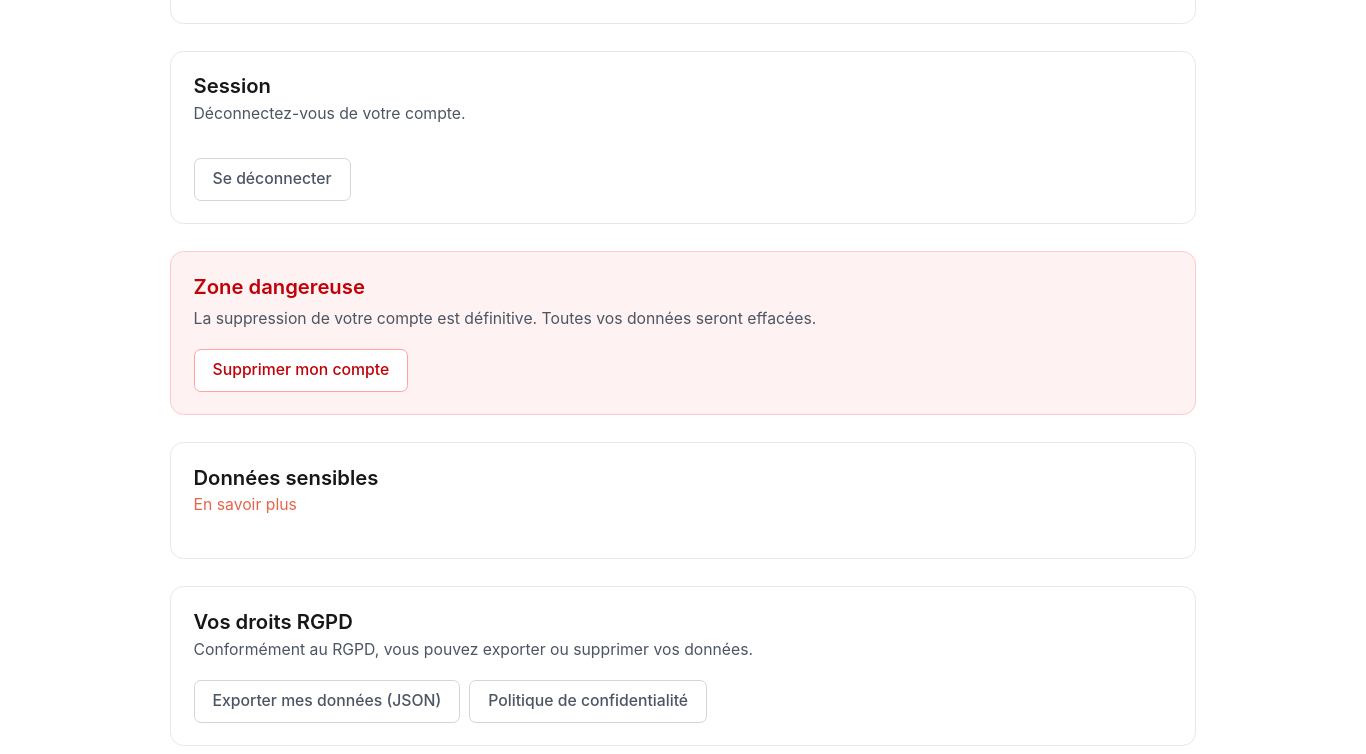
Scenario: <SettingsPage /> — suppression de compte › affiche le motif renvoyé par le serveur au lieu d'un message générique
(page scrolled)
Click the button "Supprimer mon compte": {"x": 301, "y": 370} [194,349,408,392]
(page scrolled)
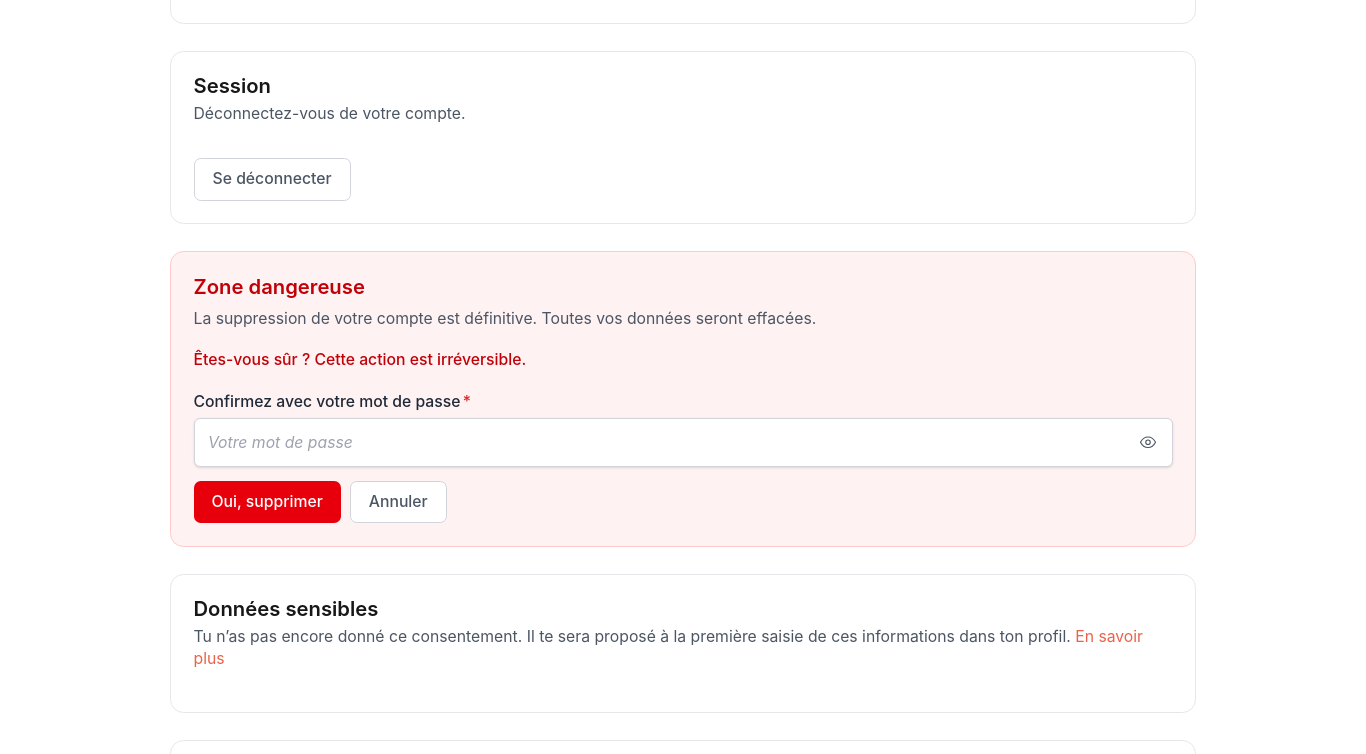
In the password field labelled "Confirmez avec votre mot de passe*": {"x": 683, "y": 442} [194,418,1172,467], type "mauvais"
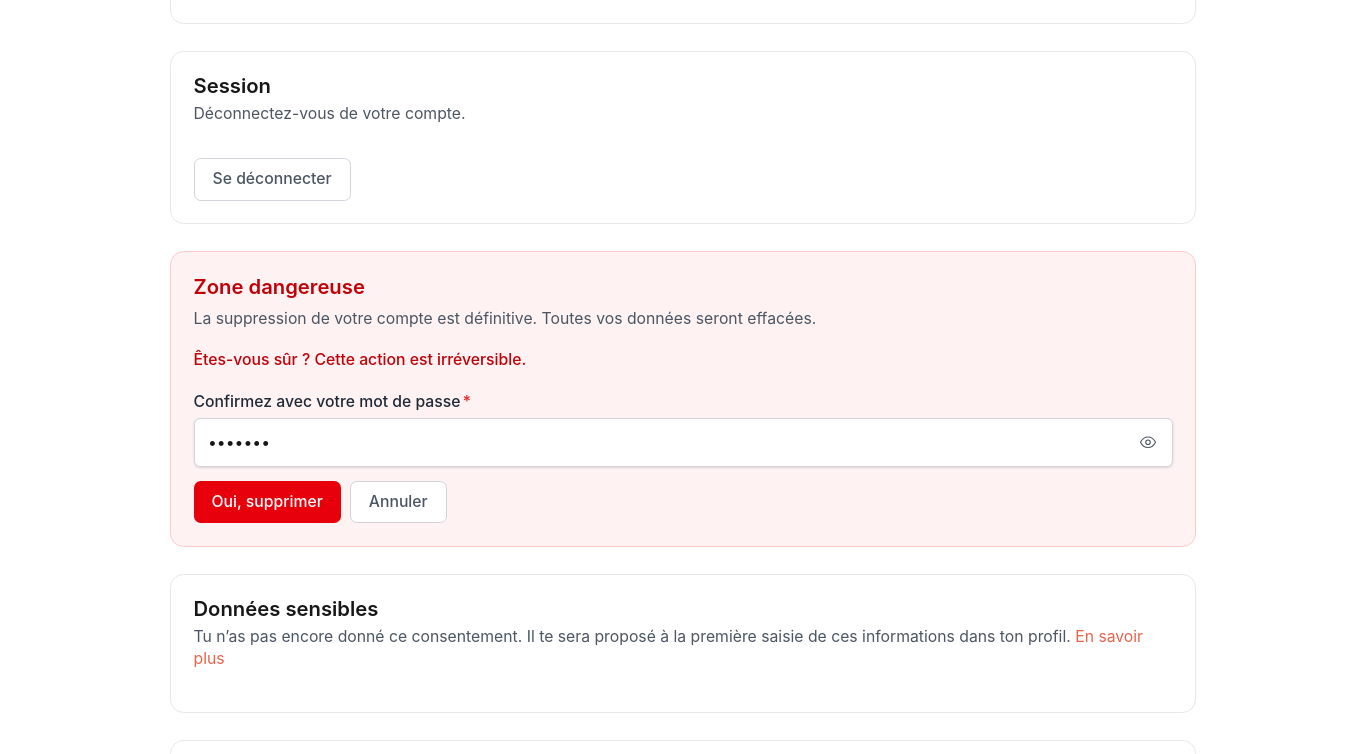
Click the button "Oui, supprimer": {"x": 267, "y": 502} [194,481,341,523]
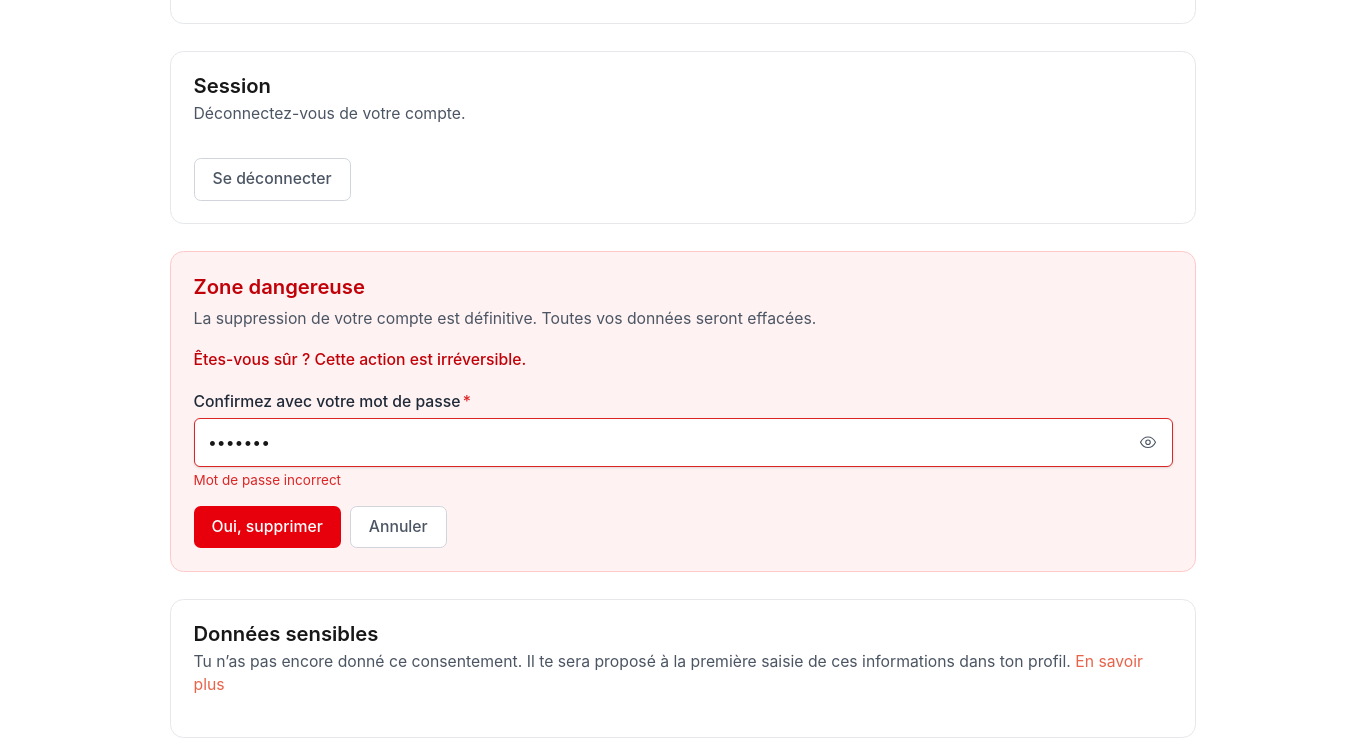
Now the text "Mot de passe incorrect" is shown, box [194,472,341,488]
